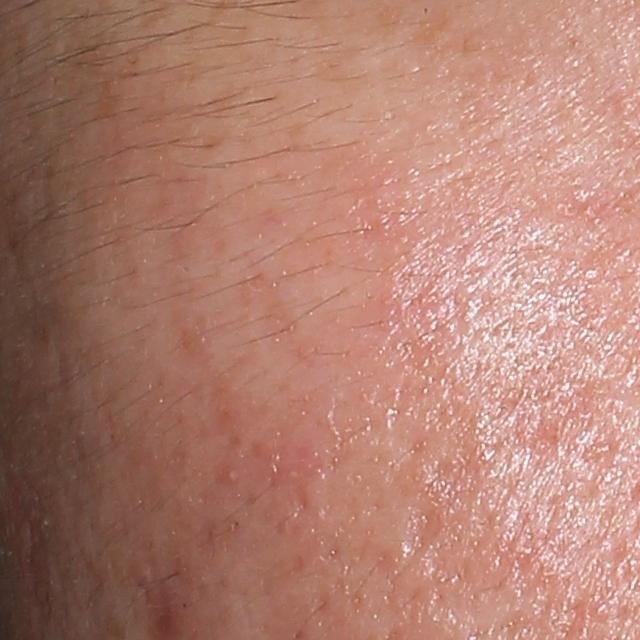atrophic_scar: (403, 495, 450, 576)
